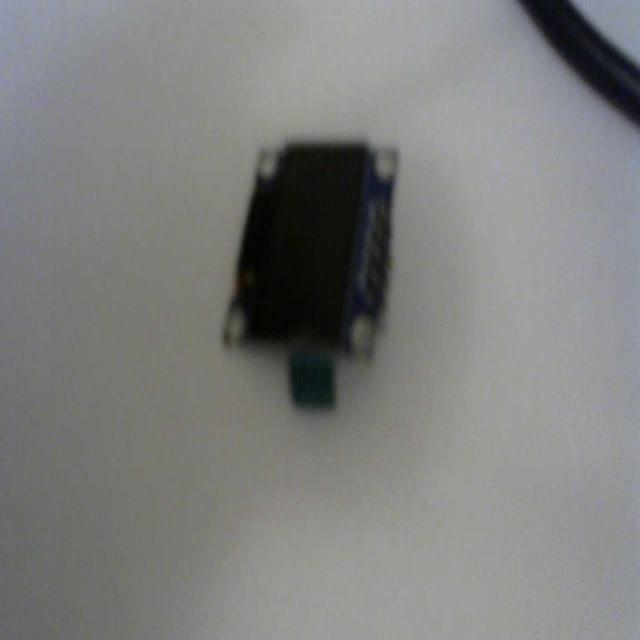oled: (217, 135, 405, 422)
